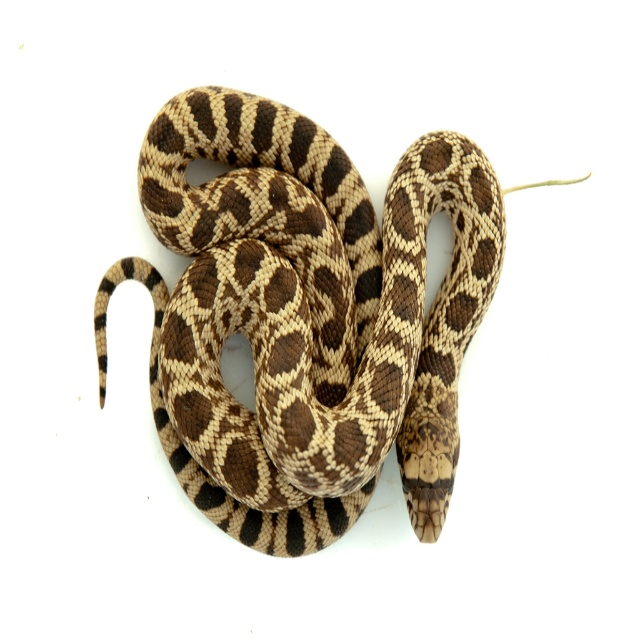Snake: (94, 84, 507, 561)
